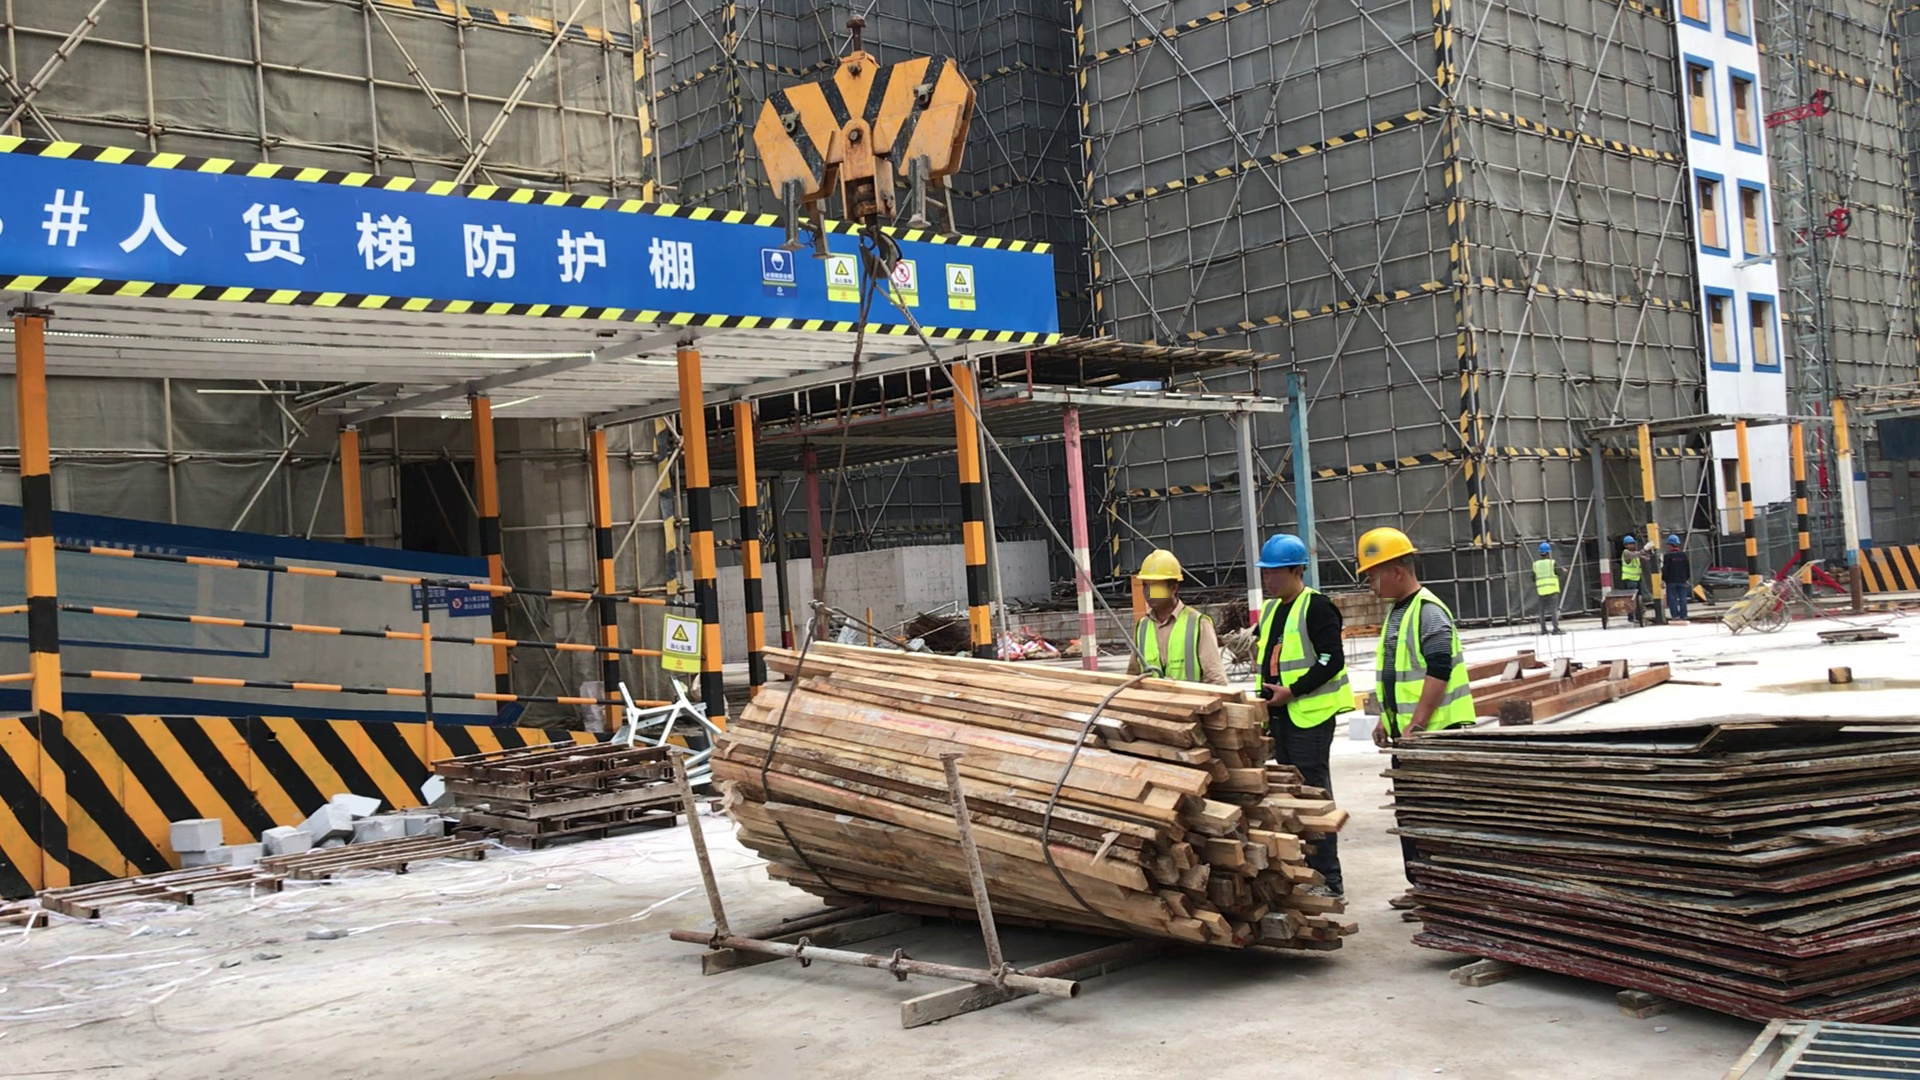board: (1381, 709, 1920, 1035)
handcart: (1719, 578, 1800, 645)
helmet: (1353, 525, 1418, 574), (1252, 531, 1315, 570), (1134, 547, 1183, 581), (1537, 538, 1553, 556), (1666, 532, 1681, 546), (1623, 531, 1636, 548)
hook: (749, 9, 983, 291)
person: (1355, 525, 1479, 927), (1250, 531, 1358, 911), (1124, 549, 1231, 692), (1527, 537, 1568, 636), (1618, 530, 1655, 622), (1662, 532, 1693, 630)
vest: (1375, 593, 1479, 737), (1251, 585, 1354, 729), (1126, 605, 1203, 693)
wood: (700, 632, 1371, 954)
